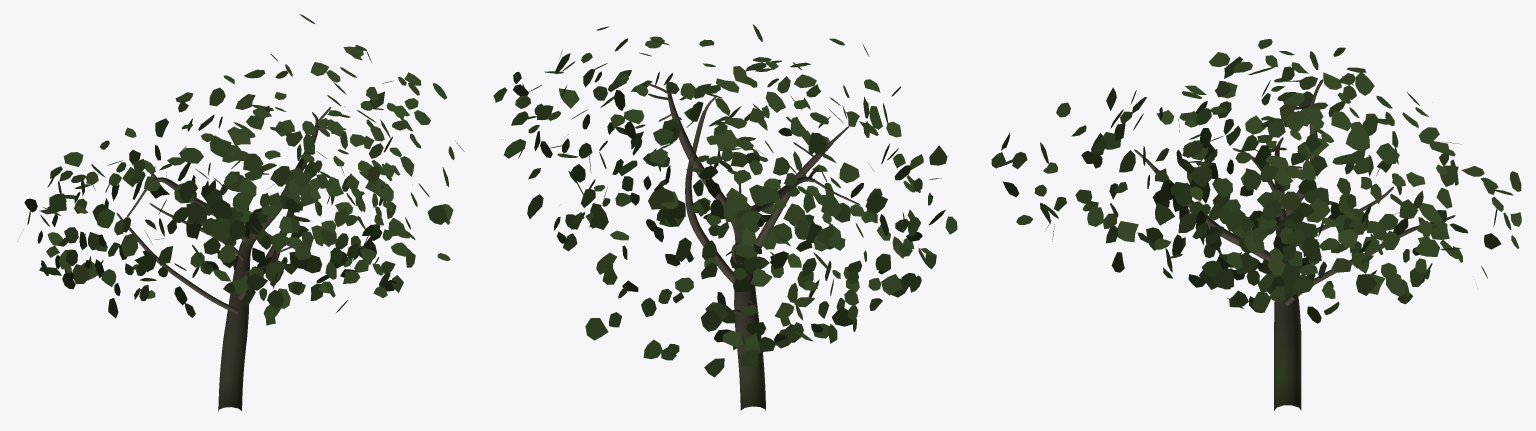
The model's file is SM_TreeFar_oak_1.glb.
3 views of the same model, side by side, from view 1: azimuth 30°, elevation 25°; view 2: azimuth 150°, elevation 25°; view 3: azimuth 270°, elevation 25° (orthographic). The views are drawn at different scales.
Visible parts, largest first — view 1: SM_TreeFar_oak_1; view 2: SM_TreeFar_oak_1; view 3: SM_TreeFar_oak_1.
Part boxes in pixels (bbox=[...]): SM_TreeFar_oak_1: bbox=[17, 14, 464, 411]; SM_TreeFar_oak_1: bbox=[493, 24, 957, 410]; SM_TreeFar_oak_1: bbox=[991, 39, 1521, 410].
Size of the model in its own units: 19.64 by 15.17 by 19.59.
